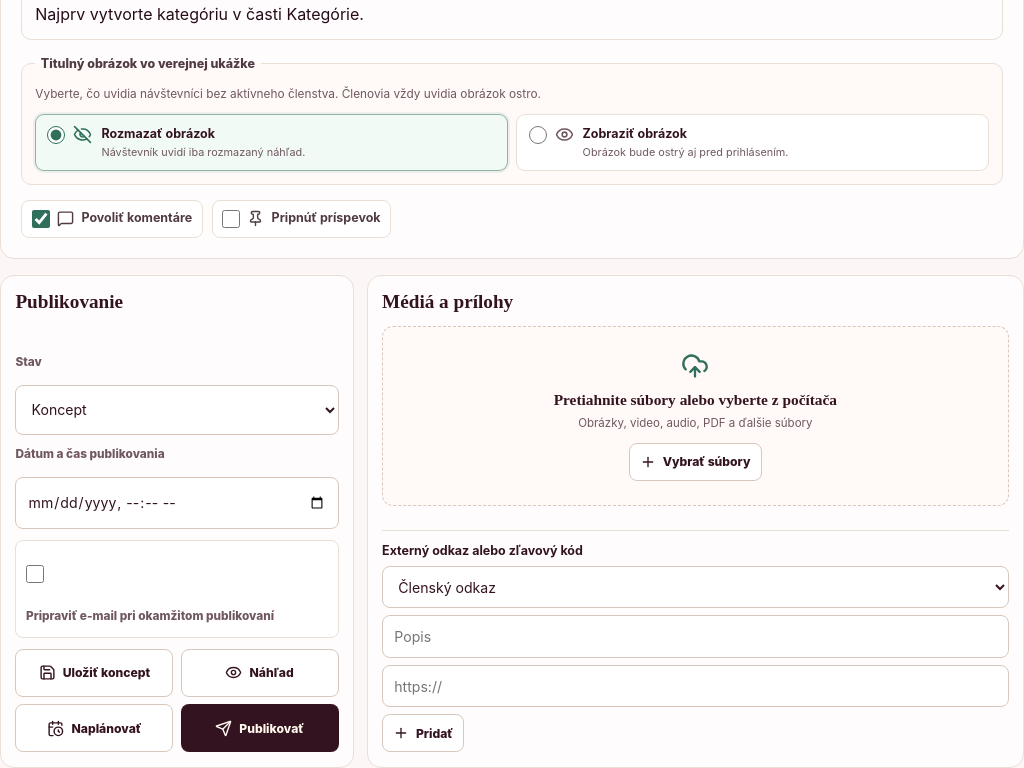
Test: MembershipPostEditor media upload › stops before the API and focuses the title when a new post is blank
(page scrolled)
Click the button "Vybrať súbory" at x=695, y=462, box 629,443 -> 762,481
(page scrolled)
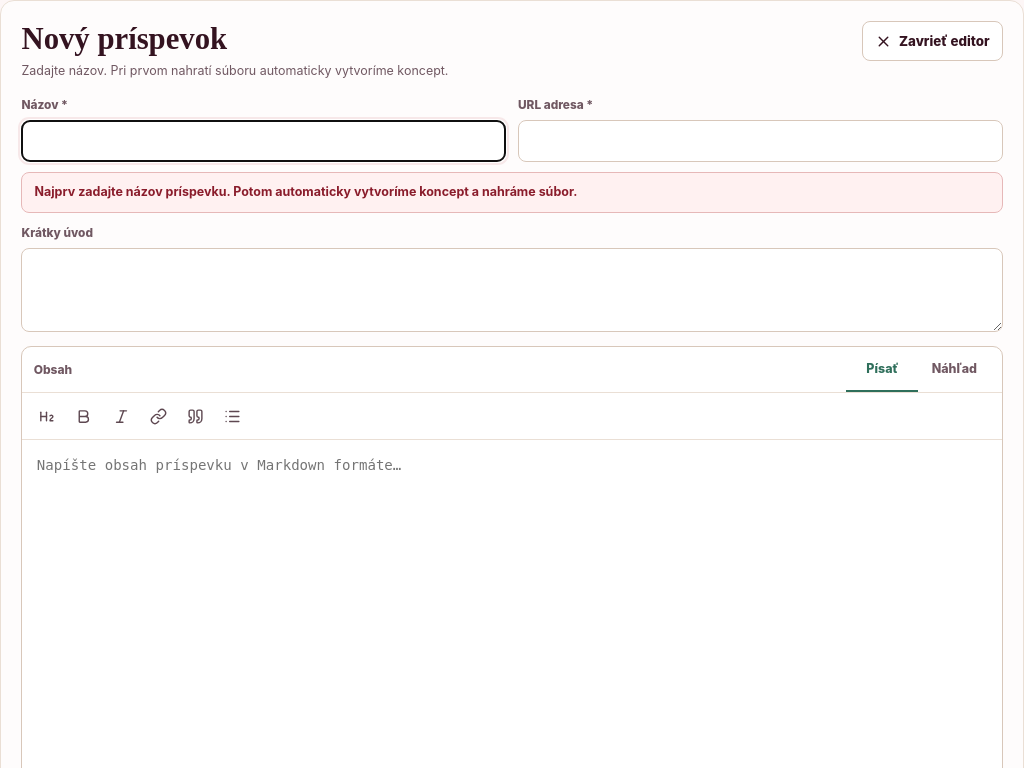
Result: the message shows "Najprv zadajte názov príspevku" at 34,184 -> 577,199
